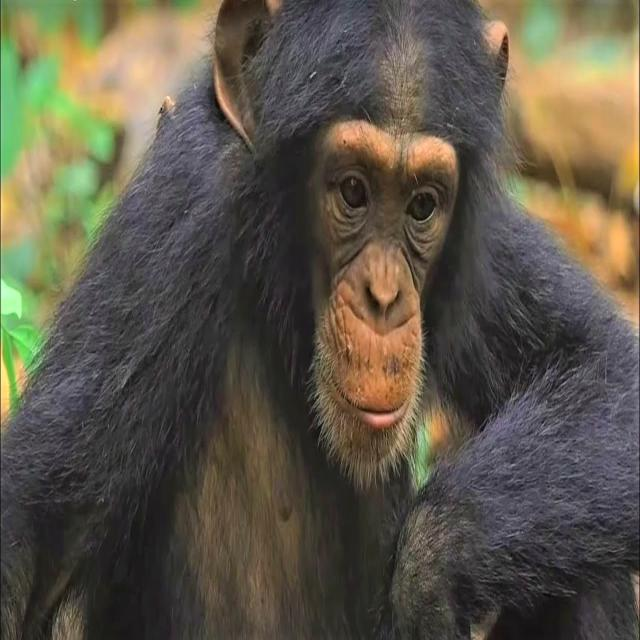chimpanzee: (0, 0, 638, 639)
